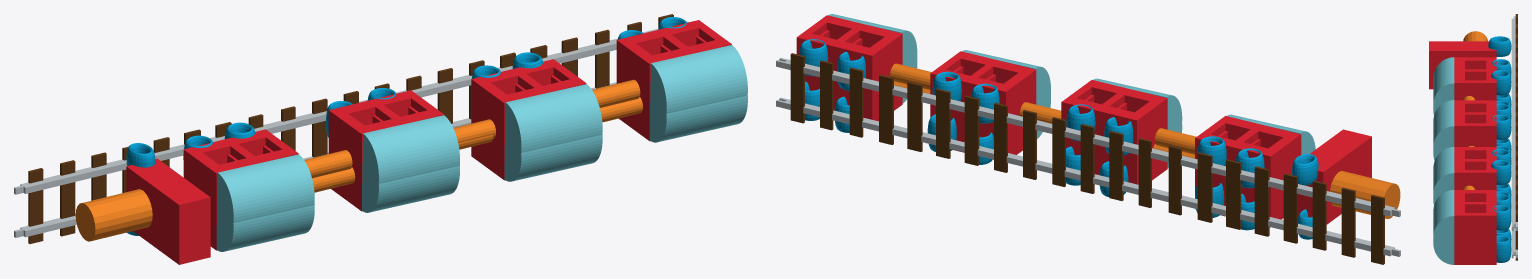
File: tinker.obj
3 renders of one model, left to right at view 1: azimuth 30°, elevation 25°; view 2: azimuth 150°, elevation 25°; view 3: azimuth 270°, elevation 25°, orthographic. The views are drawn at different scales.
Parts seen in each view (by area): view 1: group_0_7720667, group_0_15277357, group_0_6306067, group_0_16089887, group_0_12568524, group_0_40919; view 2: group_0_15277357, group_0_6306067, group_0_40919, group_0_12568524, group_0_16089887, group_0_7720667; view 3: group_0_15277357, group_0_7720667, group_0_40919, group_0_12568524, group_0_6306067, group_0_16089887.
Part boxes in pixels (x1,y1,x2,y2): group_0_7720667: (216, 45, 747, 251); group_0_15277357: (126, 20, 731, 264); group_0_6306067: (28, 14, 673, 243); group_0_16089887: (75, 79, 642, 241); group_0_12568524: (14, 21, 688, 237); group_0_40919: (126, 17, 686, 235); group_0_15277357: (796, 15, 1371, 227); group_0_6306067: (790, 53, 1384, 264); group_0_40919: (799, 39, 1318, 239); group_0_12568524: (776, 57, 1400, 256); group_0_16089887: (890, 63, 1400, 218); group_0_7720667: (828, 14, 1315, 167); group_0_15277357: (1429, 41, 1496, 264); group_0_7720667: (1433, 57, 1454, 264); group_0_40919: (1488, 36, 1511, 262); group_0_12568524: (1511, 16, 1517, 258); group_0_6306067: (1515, 14, 1517, 260); group_0_16089887: (1463, 31, 1487, 189).
Size of the model in its own units: 236 by 29 by 42.
